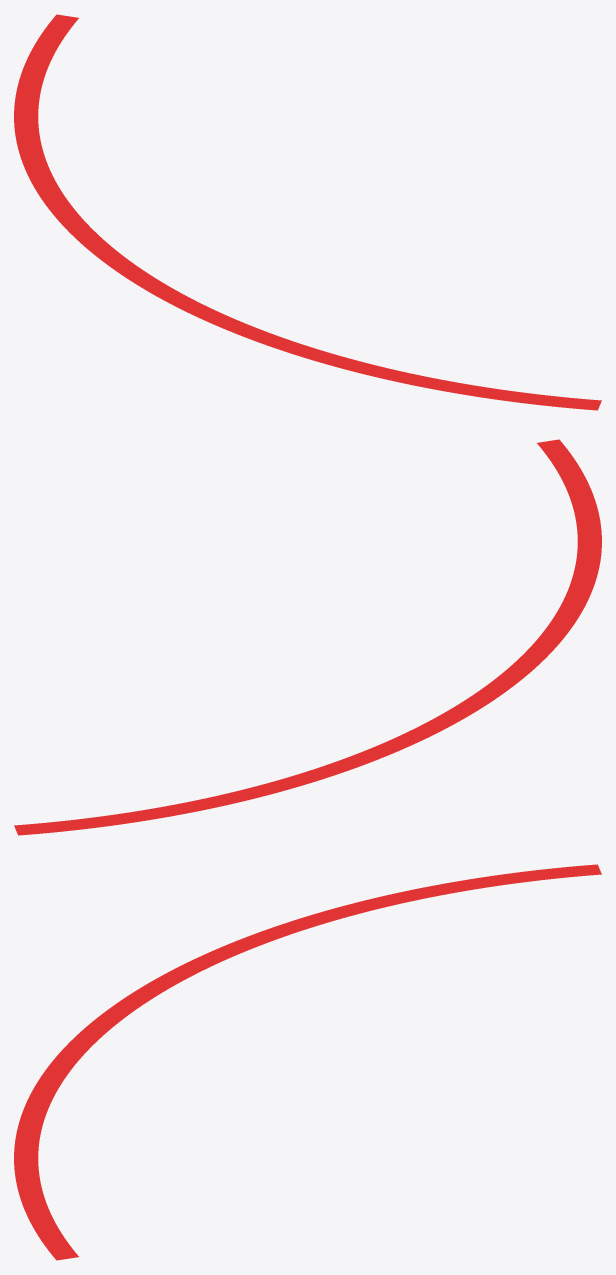
File: 紅彎曲2.FBX
3 views of the same model, one above another, from view 1: azimuth 30°, elevation 25°; view 2: azimuth 150°, elevation 25°; view 3: azimuth 330°, elevation 25° (orthographic).
Visible parts, largest first — view 1: Plane001; view 2: Plane001; view 3: Plane001.
Part boxes in pixels (x1,y1,x2,y2): Plane001: (14,14,601,410); Plane001: (14,439,601,835); Plane001: (14,864,601,1260).
Bounding box in the file's own units: 43.52 × 1.18e-06 × 176.
